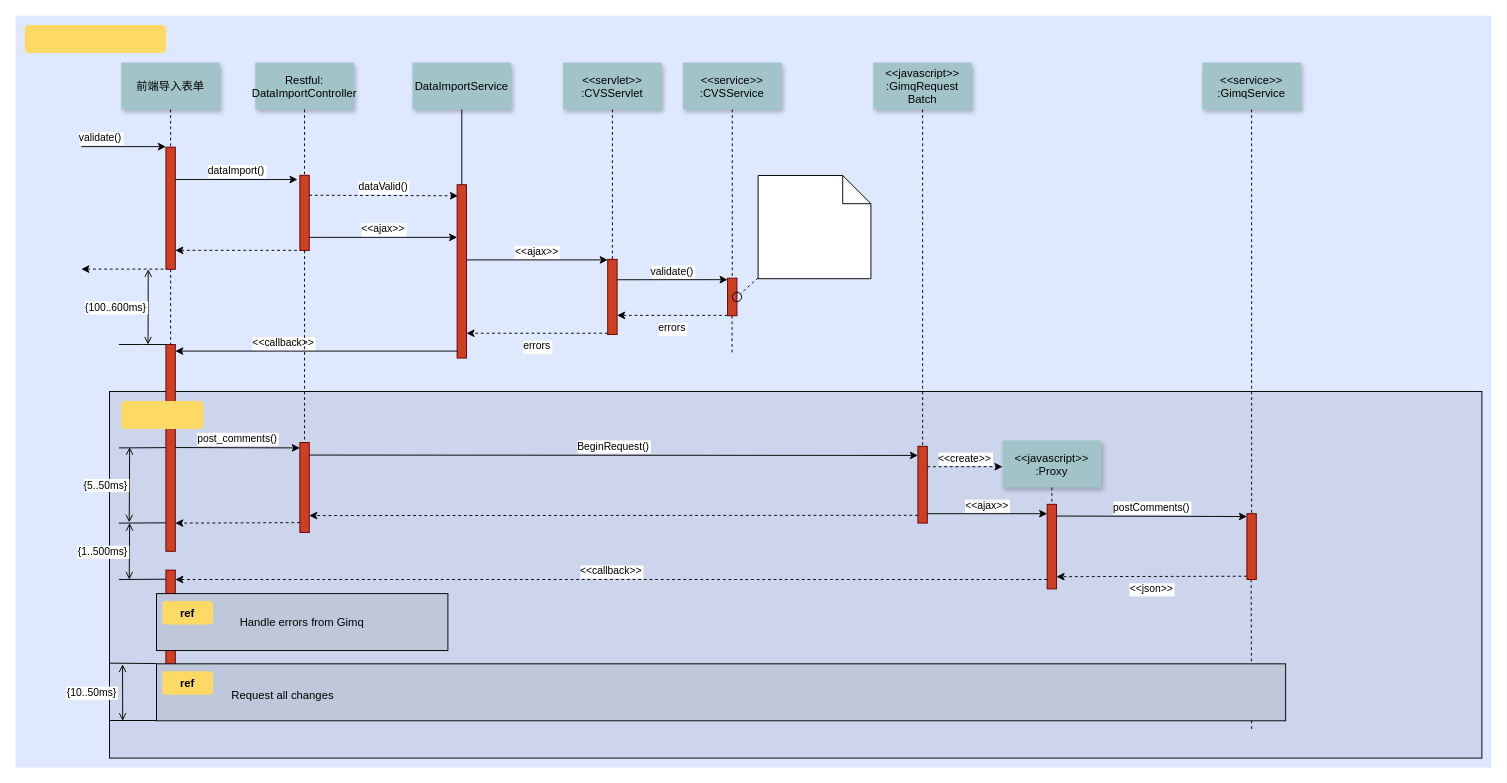
The diagram is 1507 pixels wide and 783 high, and some of its shapes have lost their labels. The shapes that lost their labels are listed below. From the top down, each one's centre as x and y in pixels, then its label:
the point at 94,38: 账单导入
the point at 814,227: - user validation - password check
the point at 162,414: opt
